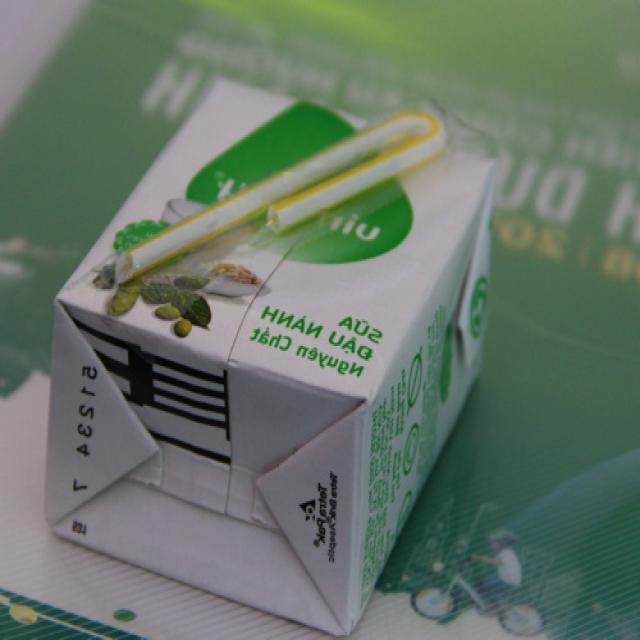cardboard: (22, 78, 502, 635)
